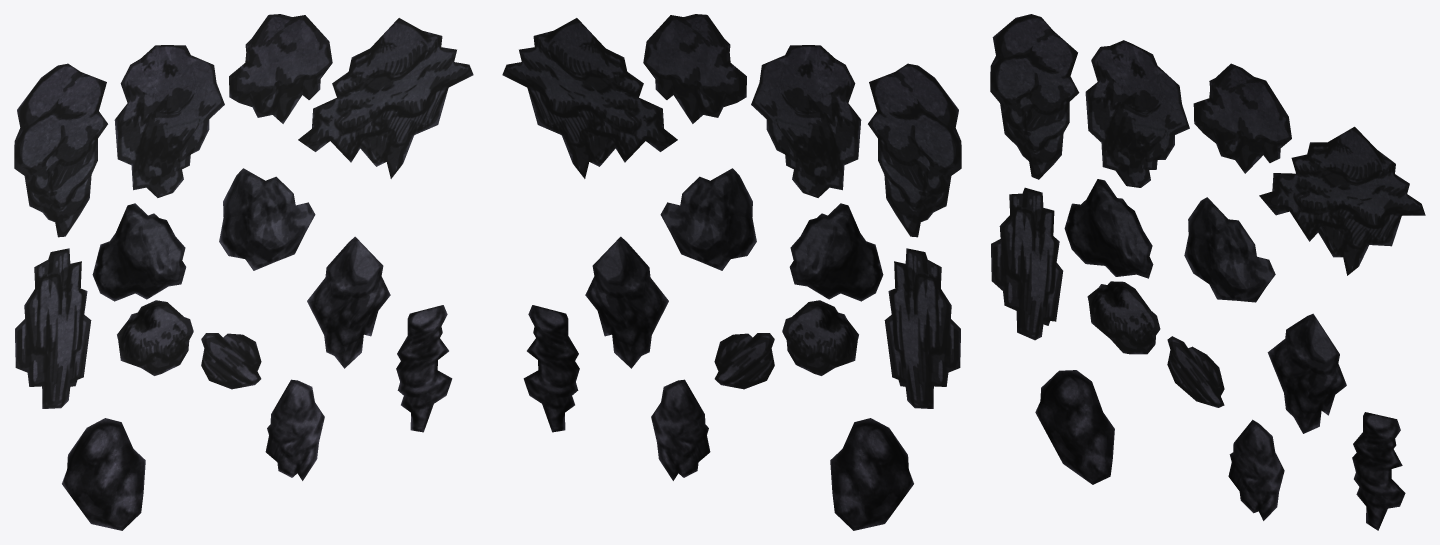
Rendered from backrocktest02.fbx.
3 renders of one model, left to right at view 1: azimuth 30°, elevation 25°; view 2: azimuth 150°, elevation 25°; view 3: azimuth 330°, elevation 25°, orthographic. The views are drawn at different scales.
Parts seen in each view (by area): view 1: pPlane1; view 2: pPlane1; view 3: pPlane1.
Part boxes in pixels (x1,y1,x2,y2): pPlane1: [14, 14, 473, 530]; pPlane1: [502, 14, 961, 530]; pPlane1: [990, 14, 1425, 530].
Bounding box in the file's own units: 289 × 290 × 1.77e-14.
Materials: 1 (1 with a texture image).
